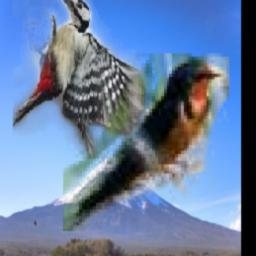Swallow: (63, 54, 229, 232)
Woodpecker: (13, 0, 145, 160)
